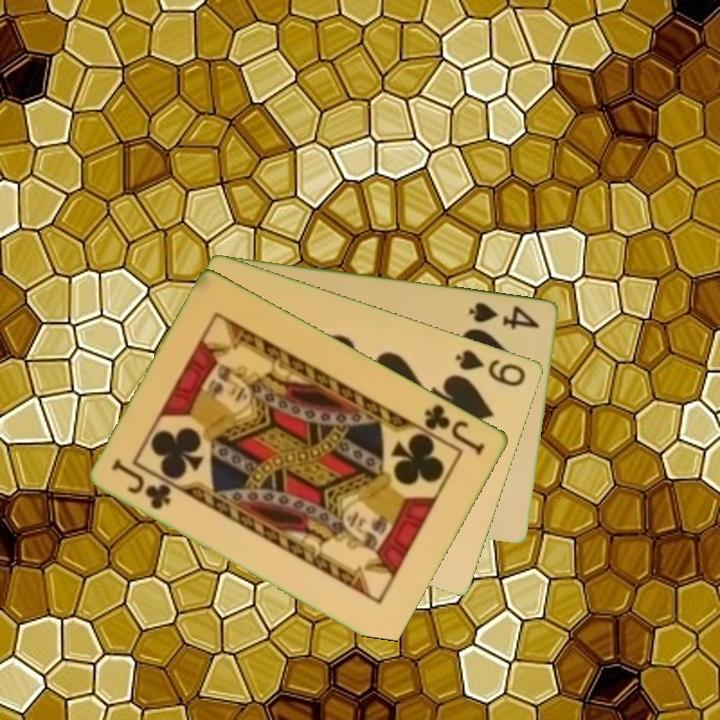4s: (466, 298, 543, 332)
9s: (452, 345, 529, 389)
Jc: (421, 400, 489, 458), (108, 456, 175, 513)
